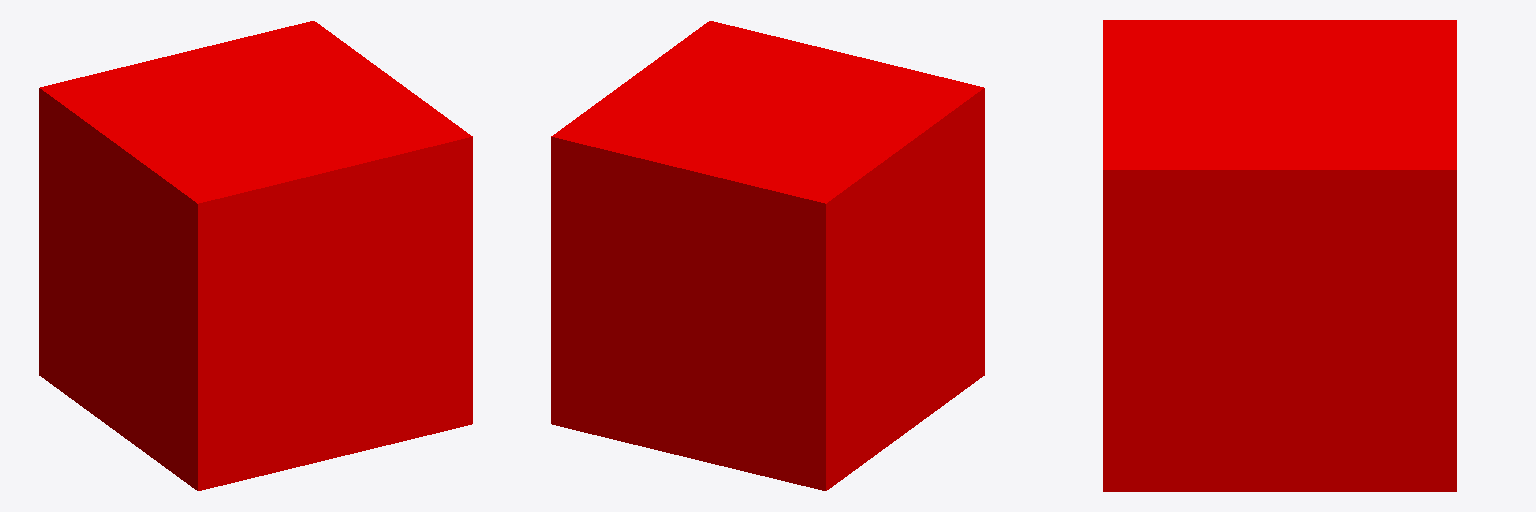
robot.urdf — box:
<robot xmlns:xacro="http://www.ros.org/wiki/xacro" name="box">
  <link name="box">
    <visual>
      <geometry>
        <box size="1 1 1"/>
      </geometry>
      <origin rpy="0 1.5707 0" xyz="0 0 0"/>
      <material name="red">
        <color rgba="1 0 0 1"/>
      </material>
    </visual>
    <collision>
      <geometry>
        <box size="1 1 1"/>
      </geometry>
      <origin rpy="0 1.5707 0" xyz="0 0 0"/>
    </collision>
    <inertial>
      <mass value="20"/>
      <inertia ixx="0.0" ixy="0" ixz="0" iyy="0.0" iyz="0" izz="0.0"/>
    </inertial>
  </link>
</robot>

--- What the picture shows (computed from the rendered views, not written in the file) ---
The picture shows the robot from 3 angles, left to right: view 1: azimuth 30°, elevation 25°; view 2: azimuth 150°, elevation 25°; view 3: azimuth 270°, elevation 25°; orthographic projection.
Model box with 1 links and 0 joints (none), rooted at box, posed all joints at 0.
Links seen in each view (by area): view 1: box; view 2: box; view 3: box.
Link boxes in pixels (x1,y1,x2,y2): box: [39, 21, 472, 490]; box: [551, 21, 984, 490]; box: [1103, 20, 1456, 491].
Size in the robot's own frame: 1 by 1 by 1 metres.
Geometry: primitives only (box / cylinder / sphere), no mesh files.